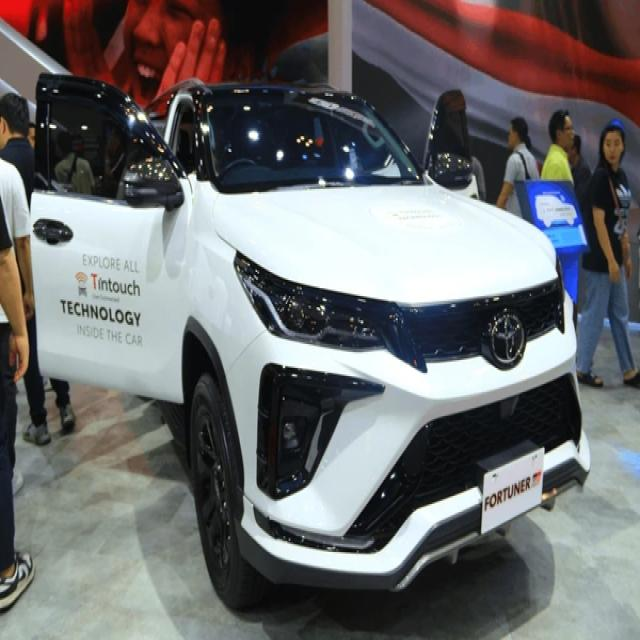toyota: (490, 313, 528, 367)
